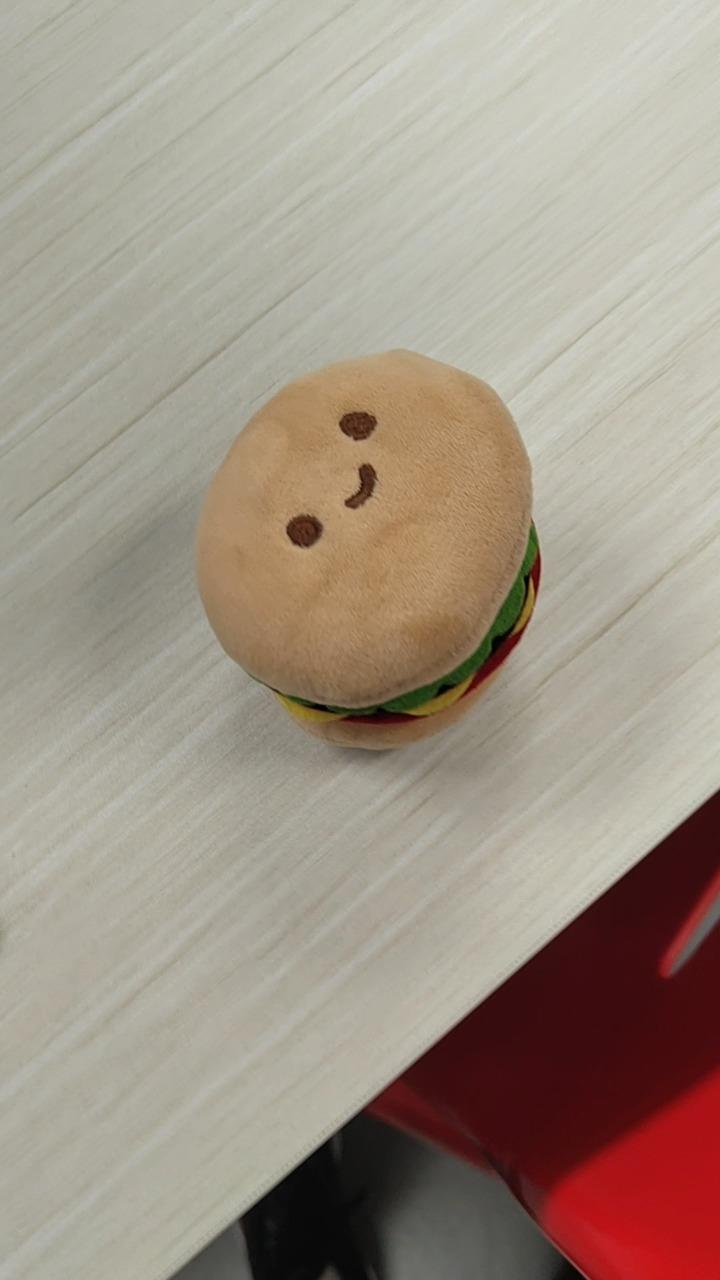hamburger: (193, 346, 542, 752)
